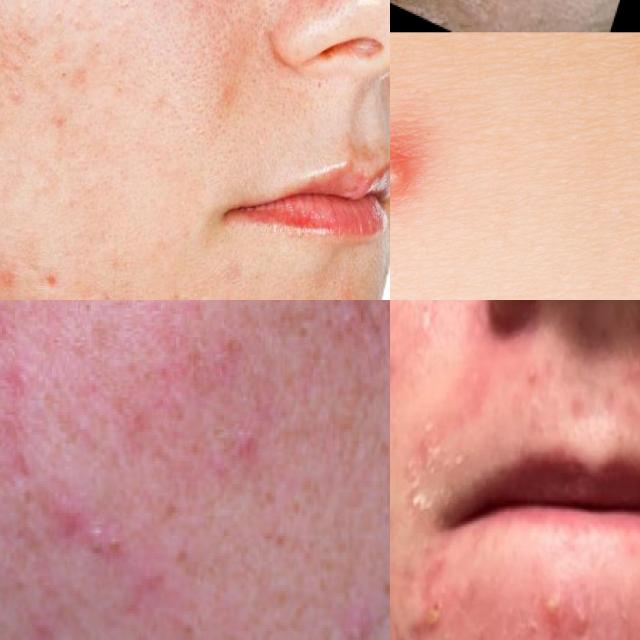papule: (390, 90, 450, 254)
